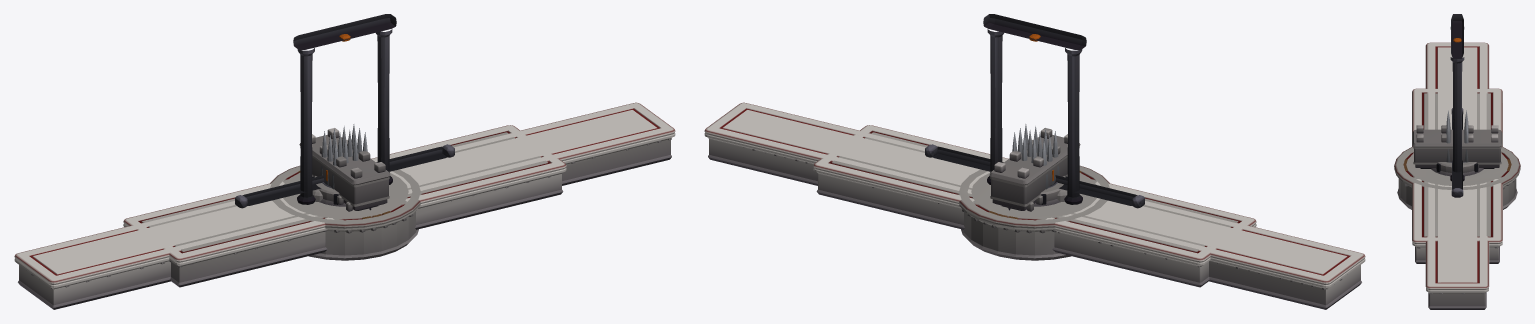
Rendered from fortress-2-Dg947DEC.glb.
The picture shows the model from 3 angles, left to right: view 1: azimuth 30°, elevation 25°; view 2: azimuth 150°, elevation 25°; view 3: azimuth 270°, elevation 25°; orthographic projection. The views are drawn at different scales.
Parts seen in each view (by area): view 1: block_64x2x7#0, block_40x2x10#0, disc_14x1.5#0, pressFrame_6x6x2x7#0, spout_2x8#0, mount_10.6#0, spikes_4x6x3#0; view 2: block_64x2x7#0, block_40x2x10#0, disc_14x1.5#0, pressFrame_6x6x2x7#0, spout_2x8#0, mount_10.6#0, spikes_4x6x3#0; view 3: block_64x2x7#0, block_40x2x10#0, spout_2x8#0, disc_14x1.5#0, pressFrame_6x6x2x7#0, geyserVent_3.9#0, mount_10.6#0, spikes_4x6x3#0, disc_8x1.5#0.
Part boxes in pixels (x1,y1,x2,y2): block_64x2x7#0: (14,102,675,309); block_40x2x10#0: (123,125,566,287); disc_14x1.5#0: (270,165,422,260); pressFrame_6x6x2x7#0: (293,14,396,204); spout_2x8#0: (299,128,390,211); mount_10.6#0: (235,144,454,208); spikes_4x6x3#0: (320,124,367,189); block_64x2x7#0: (704,102,1365,309); block_40x2x10#0: (813,125,1256,287); disc_14x1.5#0: (957,165,1109,260); pressFrame_6x6x2x7#0: (983,14,1086,204); spout_2x8#0: (989,128,1080,211); mount_10.6#0: (925,144,1144,208); spikes_4x6x3#0: (1012,124,1059,189); block_64x2x7#0: (1425,42,1489,309); block_40x2x10#0: (1412,88,1502,263); spout_2x8#0: (1412,125,1502,168); disc_14x1.5#0: (1394,146,1520,209); pressFrame_6x6x2x7#0: (1450,14,1464,181); geyserVent_3.9#0: (1431,161,1483,176); mount_10.6#0: (1451,108,1463,197); spikes_4x6x3#0: (1446,110,1468,162); disc_8x1.5#0: (1426,169,1488,178).
Bounding box in the file's own units: 64 × 21.1 × 14.
